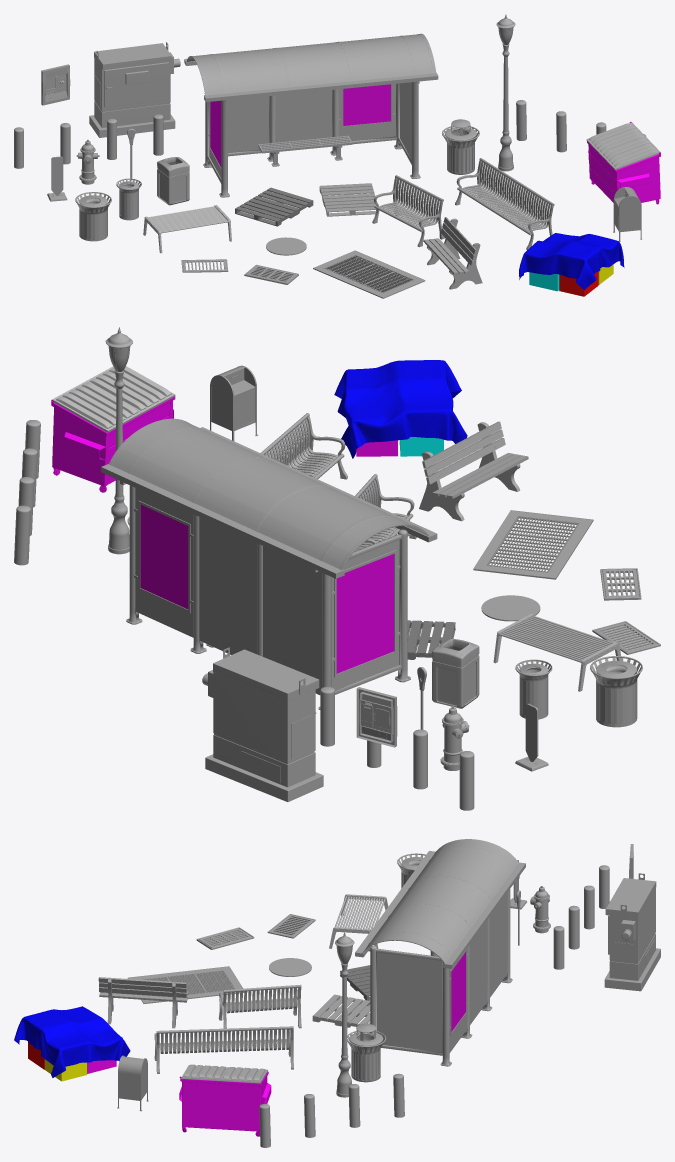
The model's file is CityPropsCollection.fbx.
3 views of the same model, one above another, from view 1: azimuth 30°, elevation 25°; view 2: azimuth 150°, elevation 25°; view 3: azimuth 270°, elevation 25° (orthographic). The views are drawn at different scales.
Visible parts, largest first — view 1: BusStop, Utility, Tarp, ParkBenchLong, Grate, Dumpster, ParkBenchShort, ConcreteBench, pallet1, PostBarrier, pallet2, Bench (+17 smaller); view 2: BusStop, Utility, Tarp, Grate, ConcreteBench, Dumpster, Bench, PostBarrier, TrashCommercial, TrashCanLarge, PostBox, ParkBenchLong (+14 smaller); view 3: BusStop, Utility, Tarp, Dumpster, ParkBenchLong, ConcreteBench, ParkBenchShort, PostBarrier, PostBarrier2, Grate, TrashCanCap, Bench (+12 smaller).
Boxes of the visible parts, x1,y1,x2,y2 form: BusStop: [184, 33, 438, 197]; Utility: [89, 42, 180, 137]; Tarp: [519, 233, 624, 289]; ParkBenchLong: [455, 158, 554, 249]; Grate: [313, 250, 425, 298]; Dumpster: [587, 122, 660, 204]; ParkBenchShort: [372, 175, 444, 247]; ConcreteBench: [423, 217, 482, 289]; pallet1: [235, 187, 313, 226]; PostBarrier: [14, 114, 163, 168]; pallet2: [319, 183, 377, 216]; Bench: [143, 205, 231, 253]; BusStop: [101, 418, 437, 709]; Utility: [202, 647, 323, 801]; Tarp: [334, 360, 467, 458]; Grate: [473, 510, 593, 579]; ConcreteBench: [419, 421, 528, 521]; Dumpster: [51, 396, 175, 492]; Bench: [493, 613, 620, 691]; PostBarrier: [320, 686, 474, 810]; TrashCommercial: [432, 638, 479, 708]; TrashCanLarge: [590, 656, 642, 727]; PostBox: [210, 365, 258, 440]; ParkBenchLong: [260, 413, 347, 479]; BusStop: [355, 839, 525, 1066]; Utility: [604, 873, 660, 991]; Tarp: [14, 1006, 130, 1077]; Dumpster: [179, 1071, 271, 1136]; ParkBenchLong: [154, 1026, 293, 1073]; ConcreteBench: [98, 977, 188, 1028]; ParkBenchShort: [218, 984, 301, 1032]; PostBarrier: [553, 865, 609, 969]; PostBarrier2: [259, 1073, 404, 1147]; Grate: [127, 966, 244, 1003]; TrashCanCap: [347, 1023, 386, 1082]; Bench: [329, 894, 388, 948].
Bounding box in the file's own units: 1401 × 423 × 1498.
